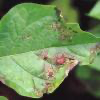Potato leaf early blight: (1, 2, 100, 100)
